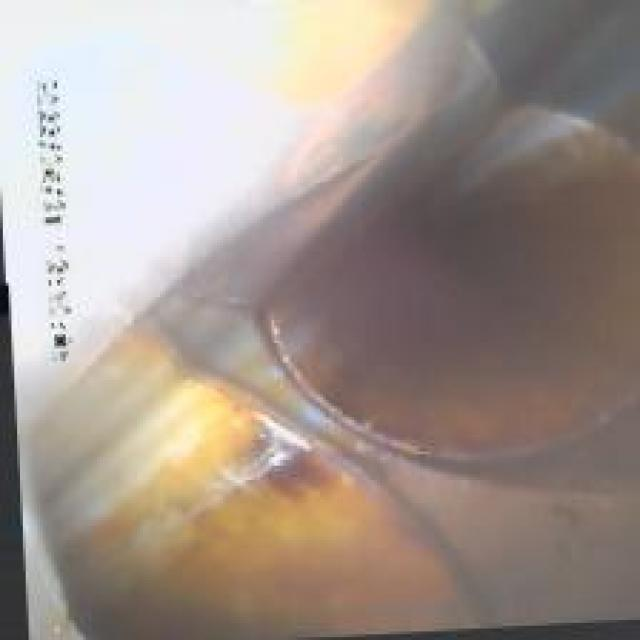joint: (103, 97, 626, 592)
